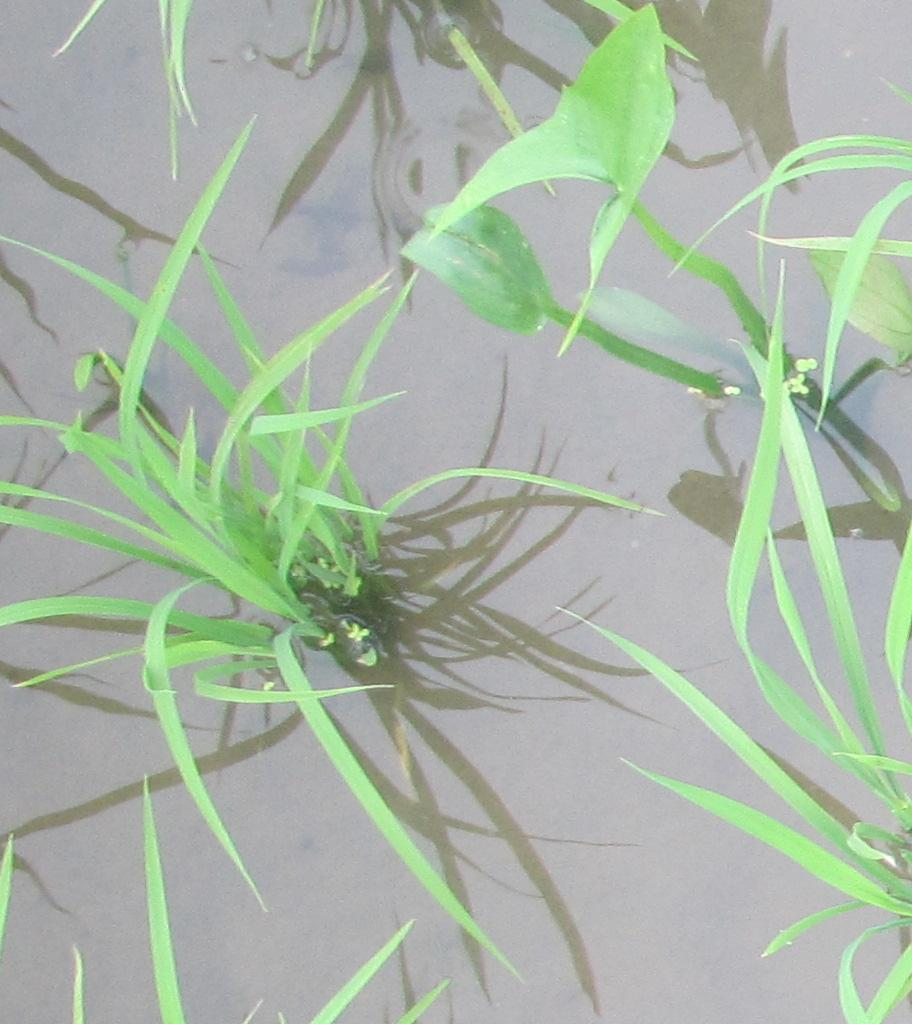Weed: (457, 5, 678, 208)
